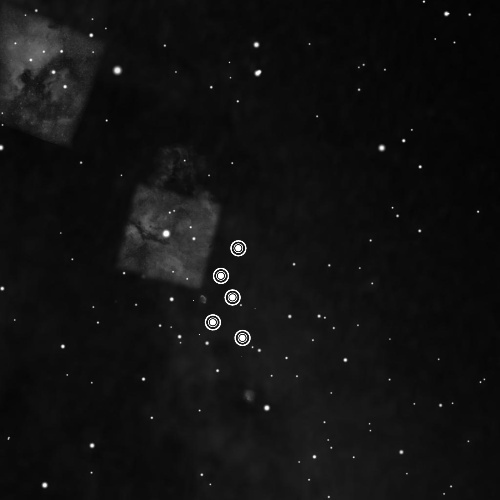cassiopeia: (189, 225, 259, 357)
